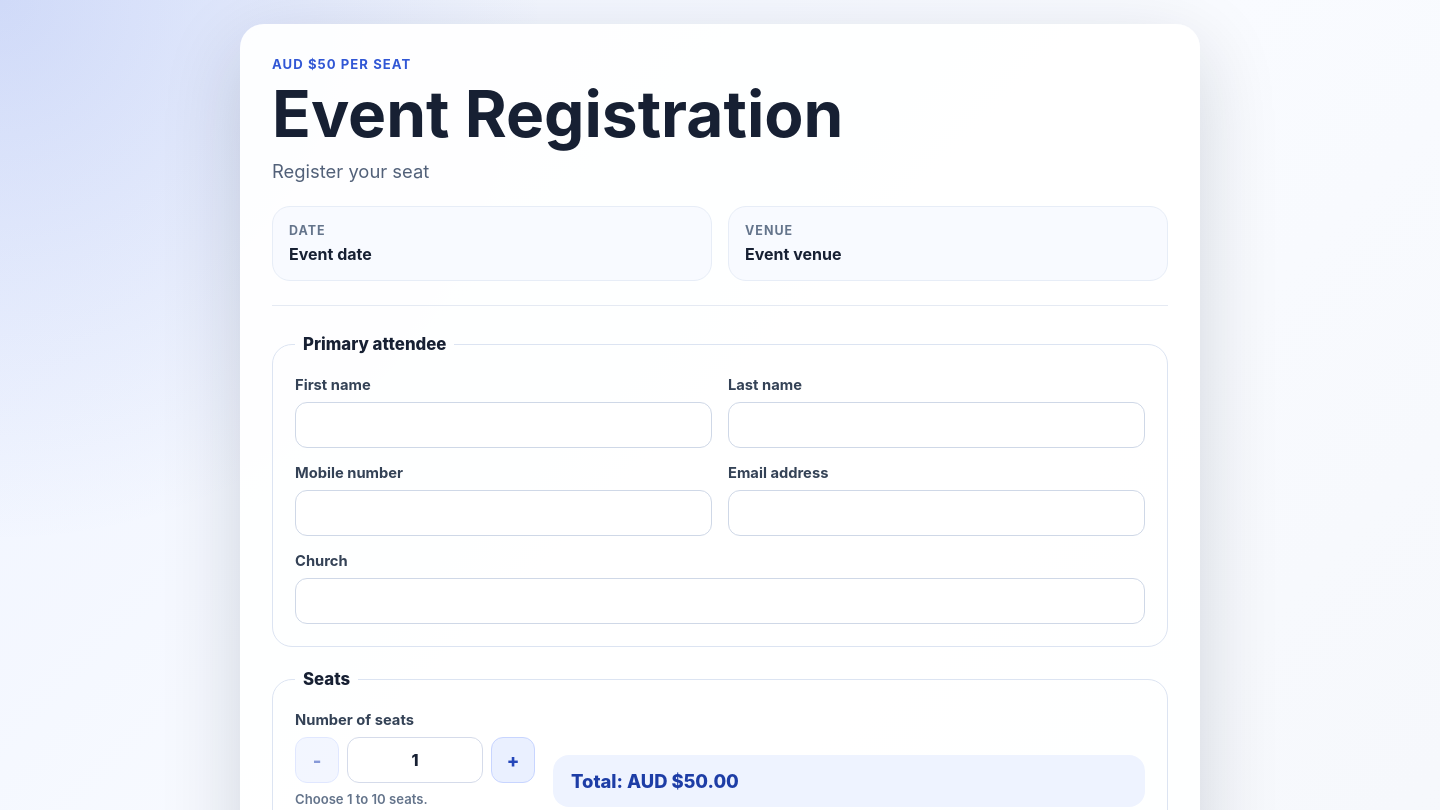
Test: App › increments the seat count when adding another attendee
The image size is (1440, 810).
What coordinates should you click on to do the following:
click the button named "increase seats"
I would click on:
 (513, 760)
Its box is [491,737,535,783].
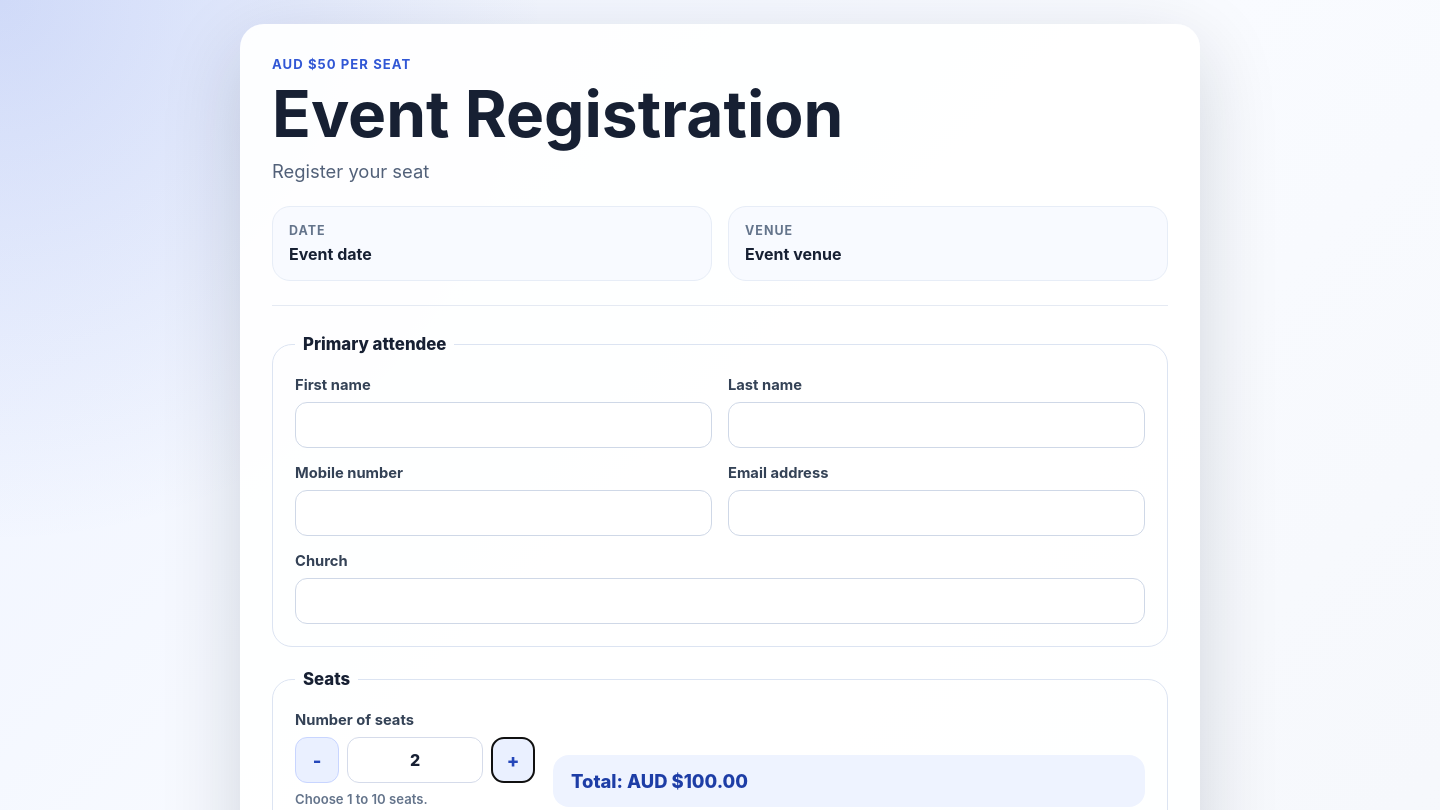
What coordinates should you click on to do the following:
click the button named "increase seats"
I would click on:
 (513, 760)
Its box is [491,737,535,783].
(page scrolled)
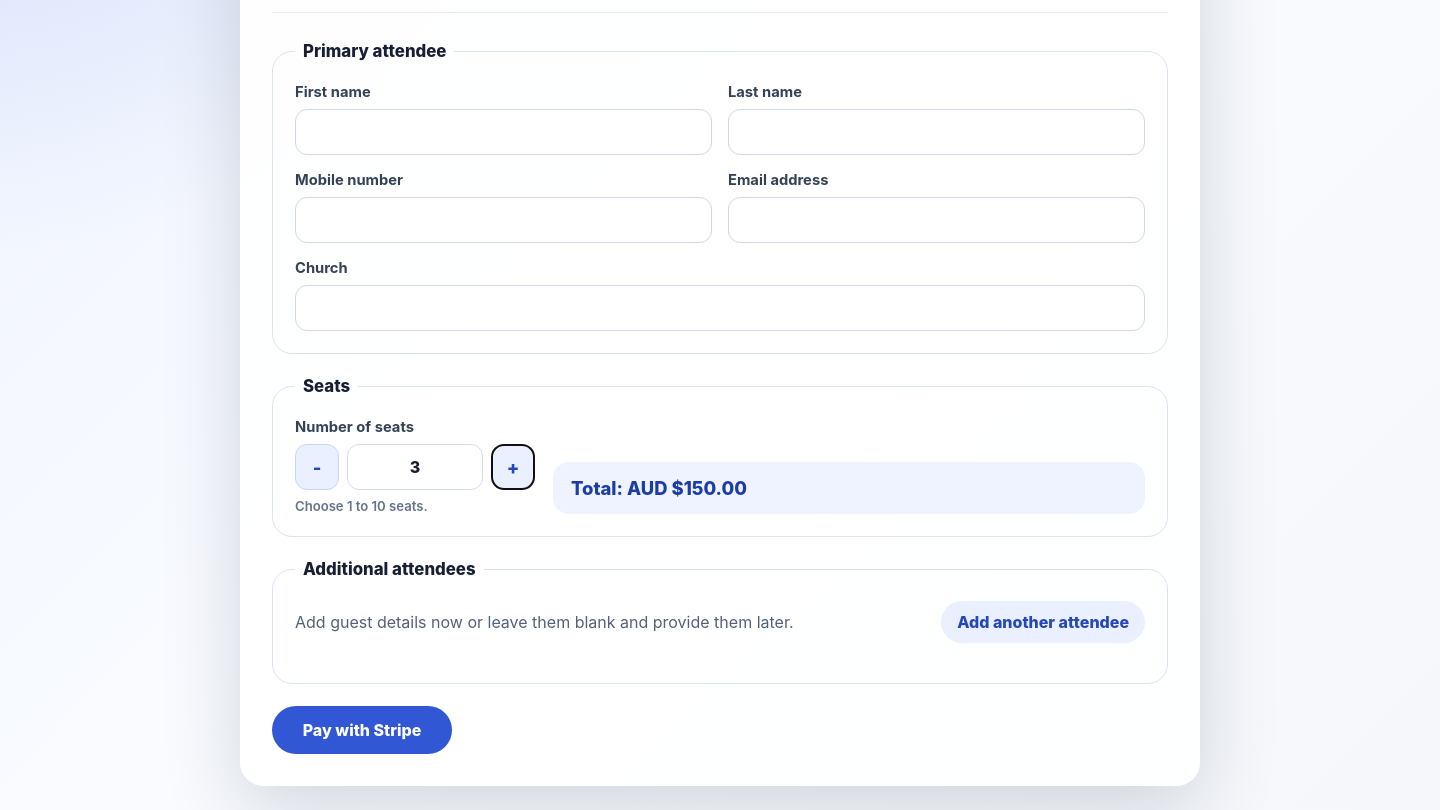
What coordinates should you click on to do the following:
click the button "Add another attendee"
I would click on:
 (1043, 622)
Its box is [941,601,1145,643].
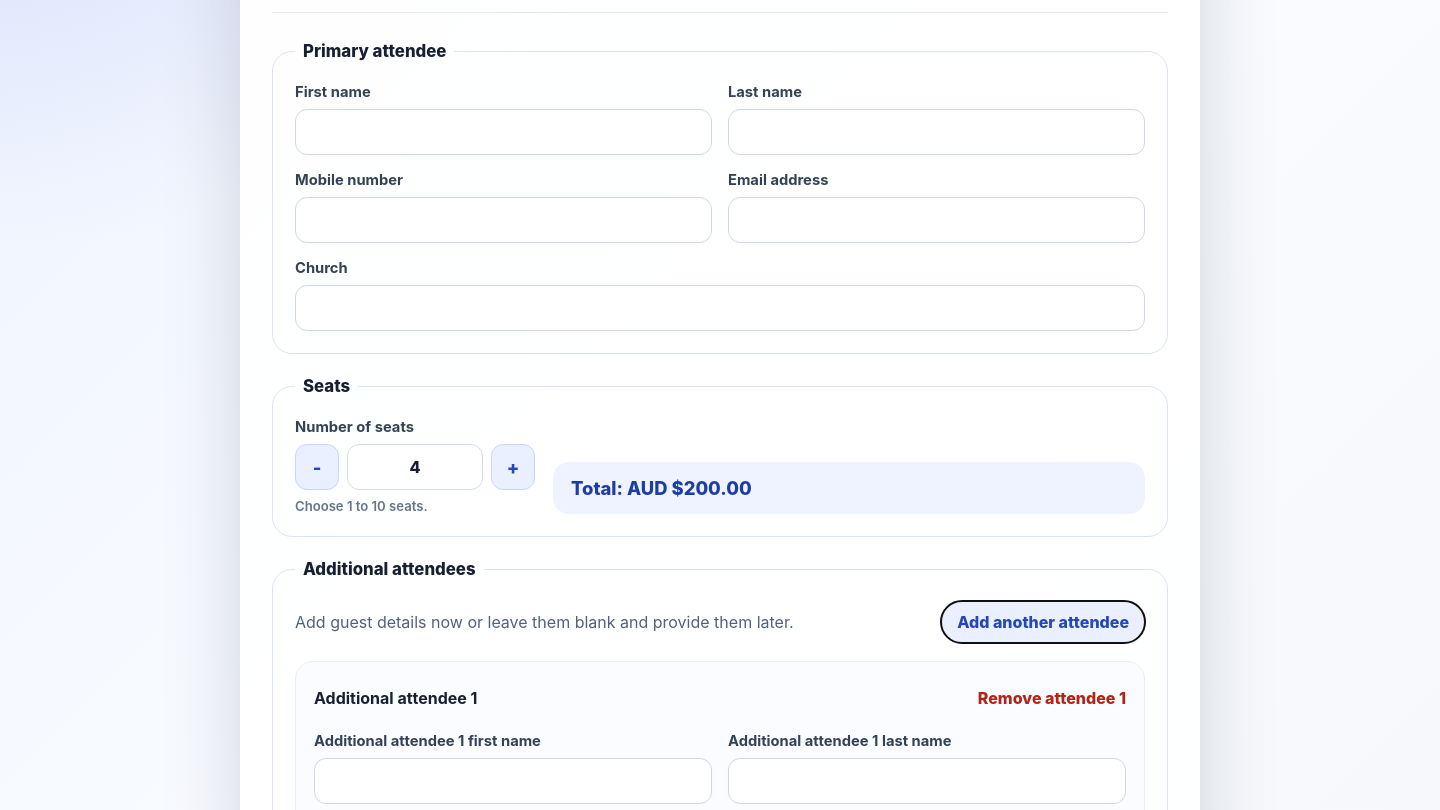
Expected: the text named "number of seats" reads "4", [347,444,483,490]
